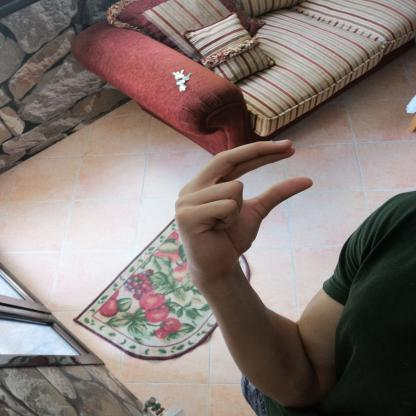DHELL: (166, 131, 323, 274)
